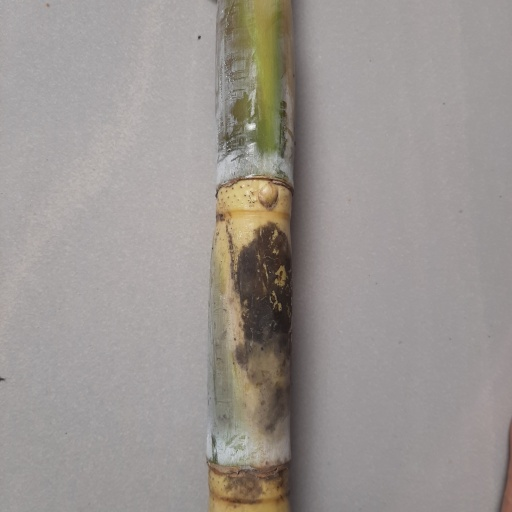Bud: (258, 182, 279, 209)
